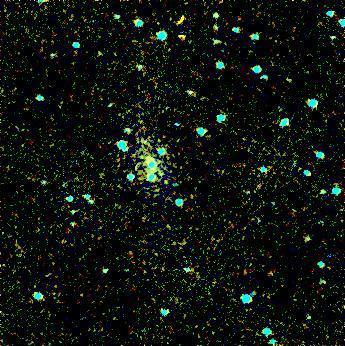star: (153, 167, 183, 197)
